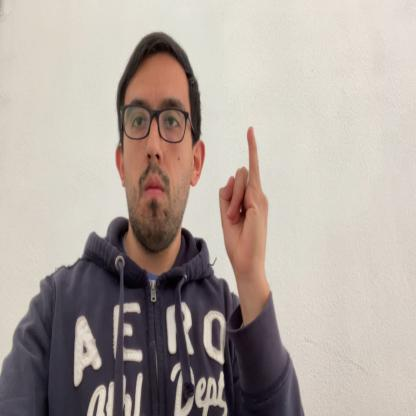I: (218, 124, 268, 280)
